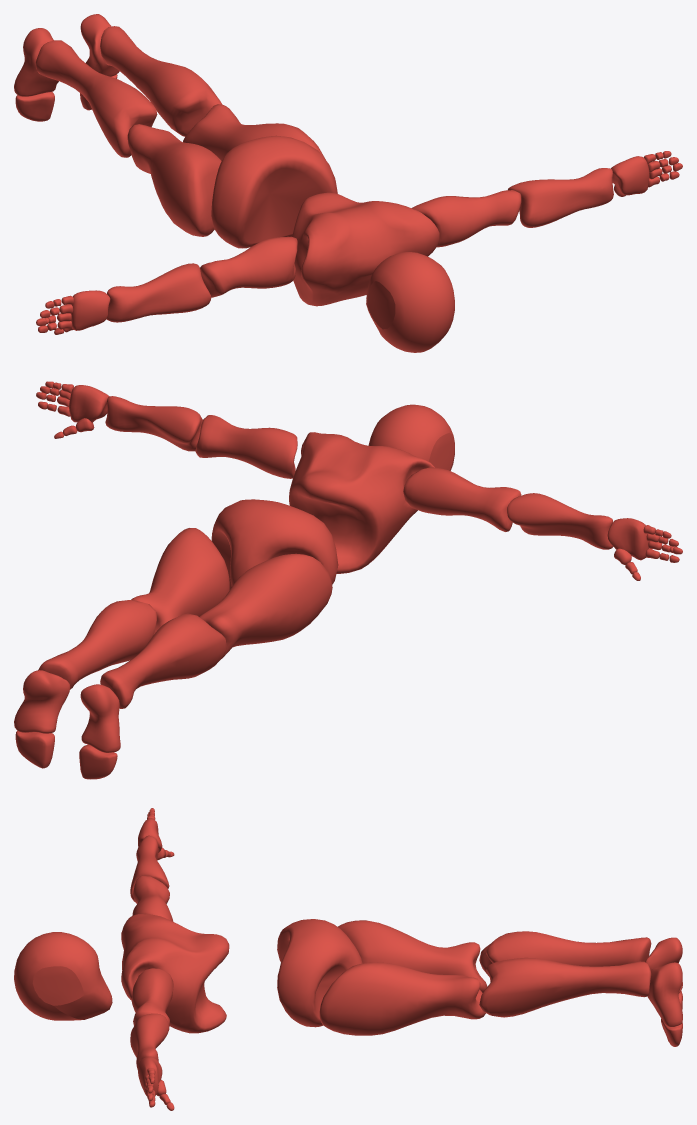
File: xbot_surface.obj
3 views of the same model, one above another, from view 1: azimuth 30°, elevation 25°; view 2: azimuth 150°, elevation 25°; view 3: azimuth 270°, elevation 25° (orthographic). The views are drawn at different scales.
Parts seen in each view (by area): view 1: Beta_Surface; view 2: Beta_Surface; view 3: Beta_Surface.
Part boxes in pixels (left/top/right/bottom): Beta_Surface: left=14, top=14, right=682, bottom=352; Beta_Surface: left=14, top=381, right=682, bottom=779; Beta_Surface: left=14, top=808, right=682, bottom=1110.
Bounding box in the file's own units: 181 × 32.07 × 181.
